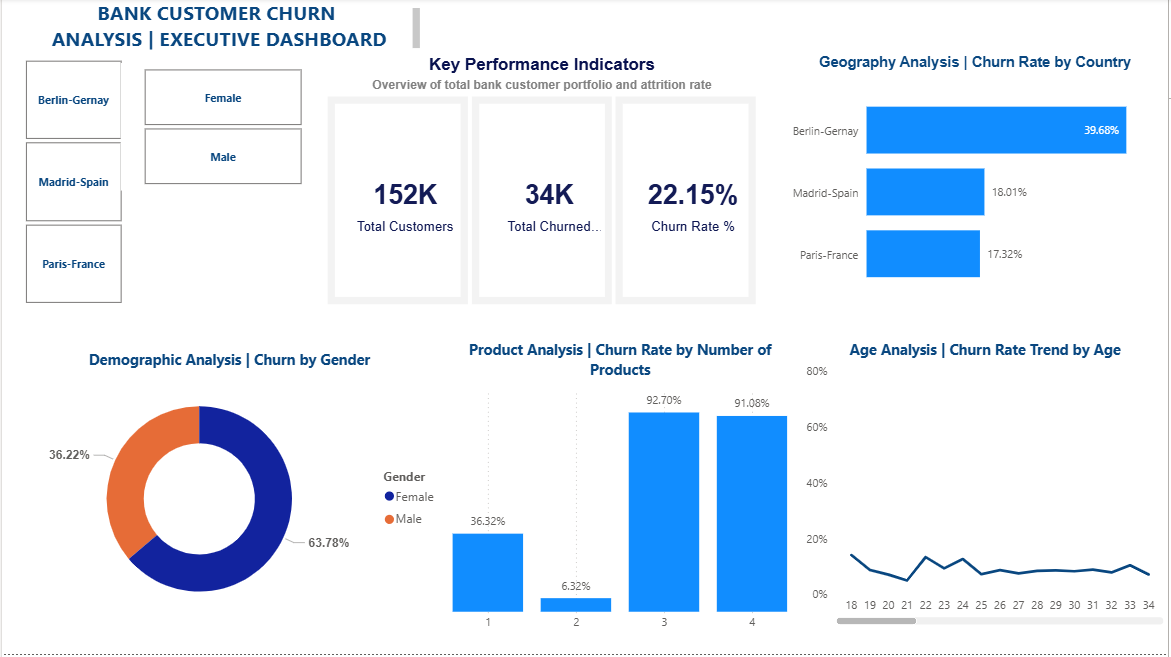

This screenshot's page, from the dashboard's own definition file:
{"tool":"powerbi","page":{"name":"Page 1","canvas":[1280,720],"ordinal":0},"visuals":[{"type":"cardVisual","title":" Key Performance Indicators","fields":{"Data":["_All Measures.Total Customers","_All Measures.Total Churned Customers","_All Measures.Churn Rate %"]},"box":[352.7,61.7,480.3,279.9],"z":0},{"type":"clusteredBarChart","title":"Geography Analysis | Churn Rate by Country","fields":{"Category":["Bank_churn.Geography"],"Y":["_All Measures.Churn Rate %"]},"box":[856.3,61.7,424,279.9],"z":1000},{"type":"donutChart","title":"Demographic Analysis | Churn by Gender","fields":{"Category":["Bank_churn.Gender"],"Y":["_All Measures.Churn Rate %"]},"box":[9.6,385.6,480.3,307.4],"z":2000},{"type":"clusteredColumnChart","title":"Product Analysis | Churn Rate by Number of Products","fields":{"Category":["Bank_churn.NumOfProducts"],"Y":["_All Measures.Churn Rate %"]},"box":[489.9,374.6,377.4,329.3],"z":3000},{"type":"lineChart","title":"Age Analysis | Churn Rate Trend by Age","fields":{"Category":["Bank_churn.Age"],"Y":["_All Measures.Churn Rate %"]},"box":[878.2,374.6,402.1,318.4],"z":4000},{"type":"slicer","fields":{"Values":["Bank_churn.Geography"]},"box":[0,61.7,155.1,279.9],"z":5000},{"type":"slicer","fields":{"Values":["Bank_churn.Gender"]},"box":[130.4,71.4,222.3,140],"z":6000},{"type":"textbox","box":[22,1.4,441.9,60.4],"z":6001}]}

Visuals, with their boxes in screenshot pixels (x1, y1, x2, y2), scaled from the page's 1280x720 canvas onto the 1171x657 screenshot:
" Key Performance Indicators" cardVisual: pyautogui.locateOnScreen(323, 56, 762, 312)
"Geography Analysis | Churn Rate by Country" clusteredBarChart: pyautogui.locateOnScreen(783, 56, 1170, 312)
"Demographic Analysis | Churn by Gender" donutChart: pyautogui.locateOnScreen(9, 352, 448, 632)
"Product Analysis | Churn Rate by Number of Products" clusteredColumnChart: pyautogui.locateOnScreen(448, 342, 793, 642)
"Age Analysis | Churn Rate Trend by Age" lineChart: pyautogui.locateOnScreen(803, 342, 1170, 632)
slicer - Bank_churn.Geography: pyautogui.locateOnScreen(0, 56, 142, 312)
slicer - Bank_churn.Gender: pyautogui.locateOnScreen(119, 65, 323, 193)
textbox: pyautogui.locateOnScreen(20, 1, 424, 56)
